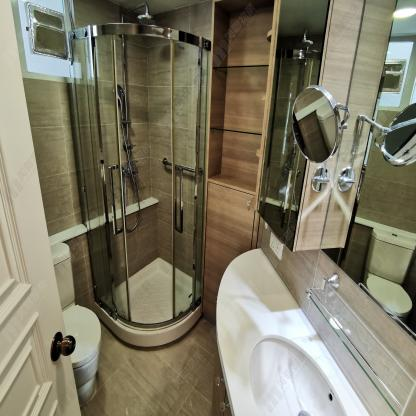Exhaust Fan: (28, 4, 68, 61)
Toilet: (50, 240, 102, 410)
Toilet Sink: (215, 247, 372, 416)
Water Cubicle: (67, 22, 211, 343)
